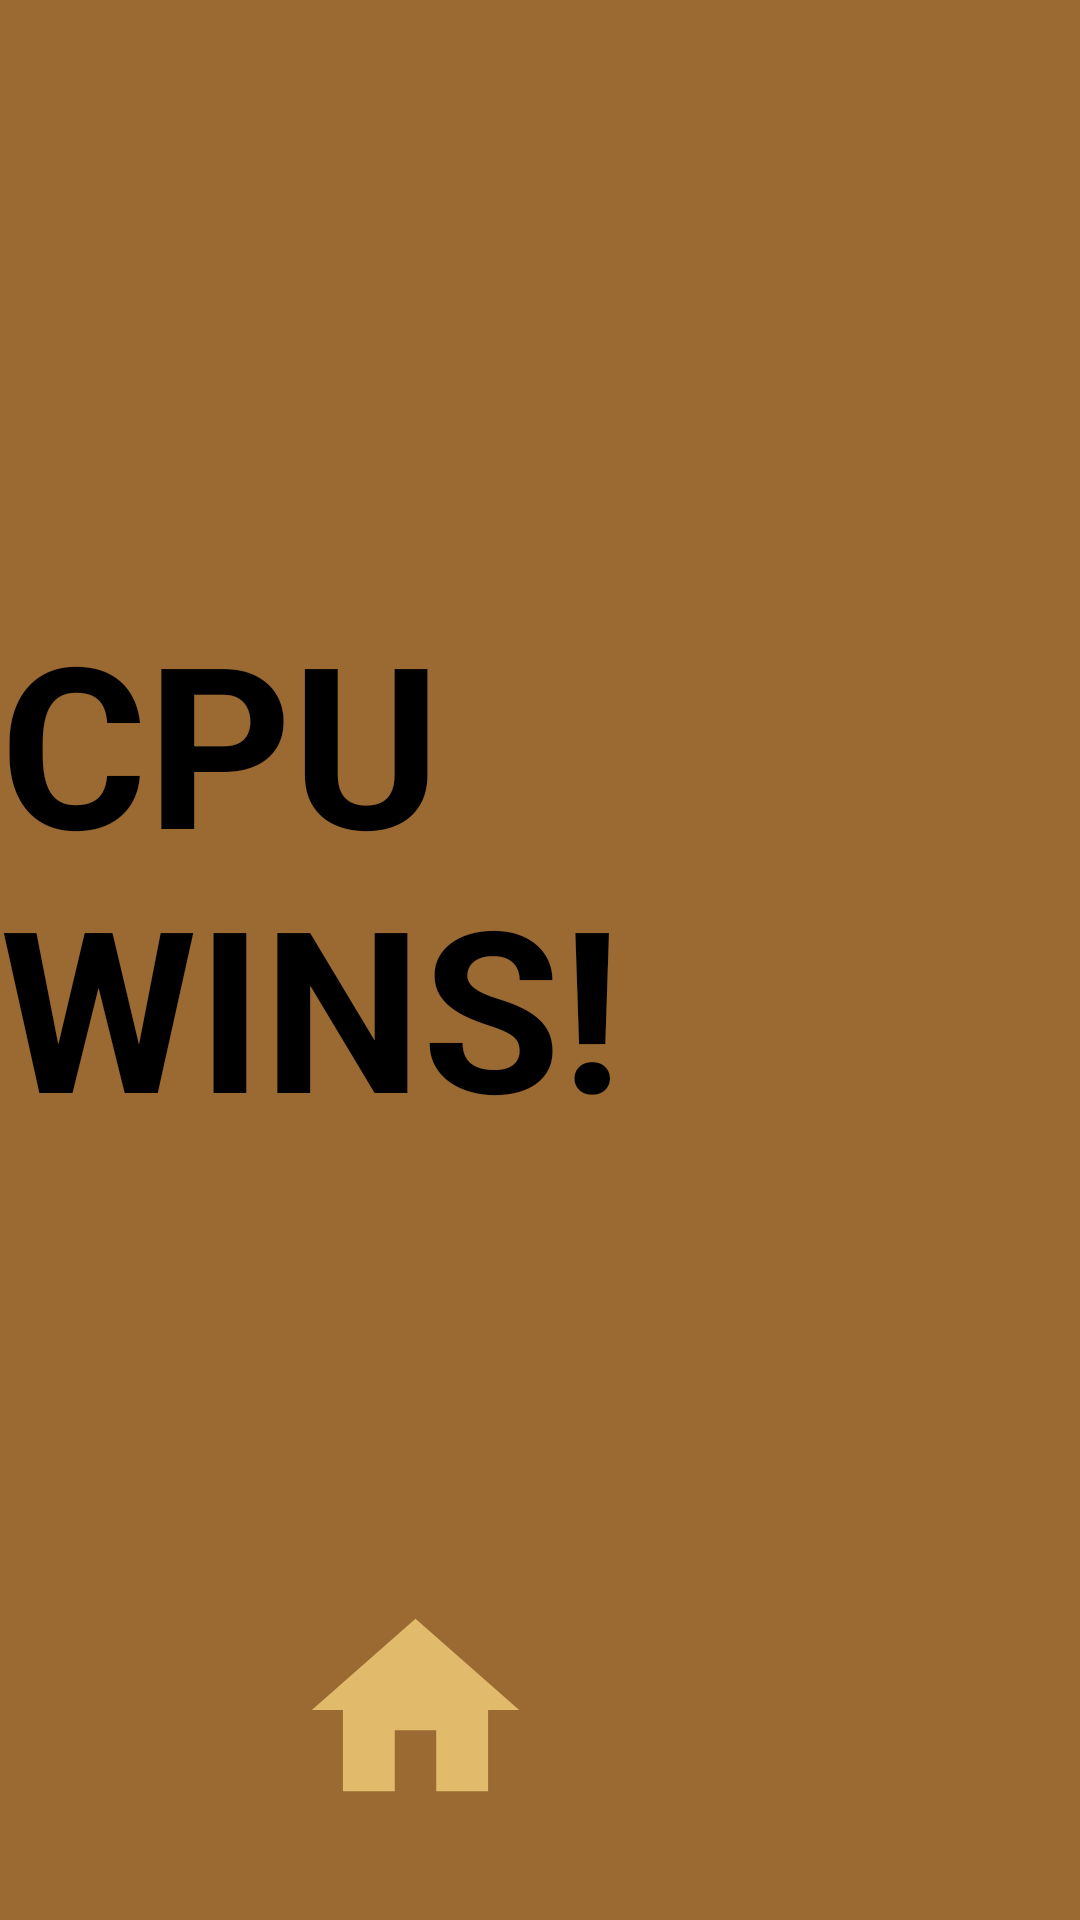

Locate icon controls on the screen. Image size 1080px x 1920px, boxes as (x1, y1, x2, y2).
home: (312, 1619, 519, 1791)
